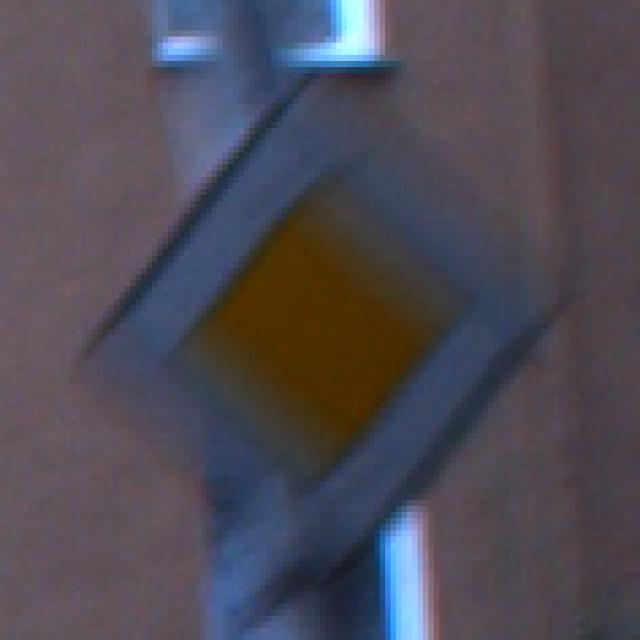Main Road: (61, 56, 587, 586)
